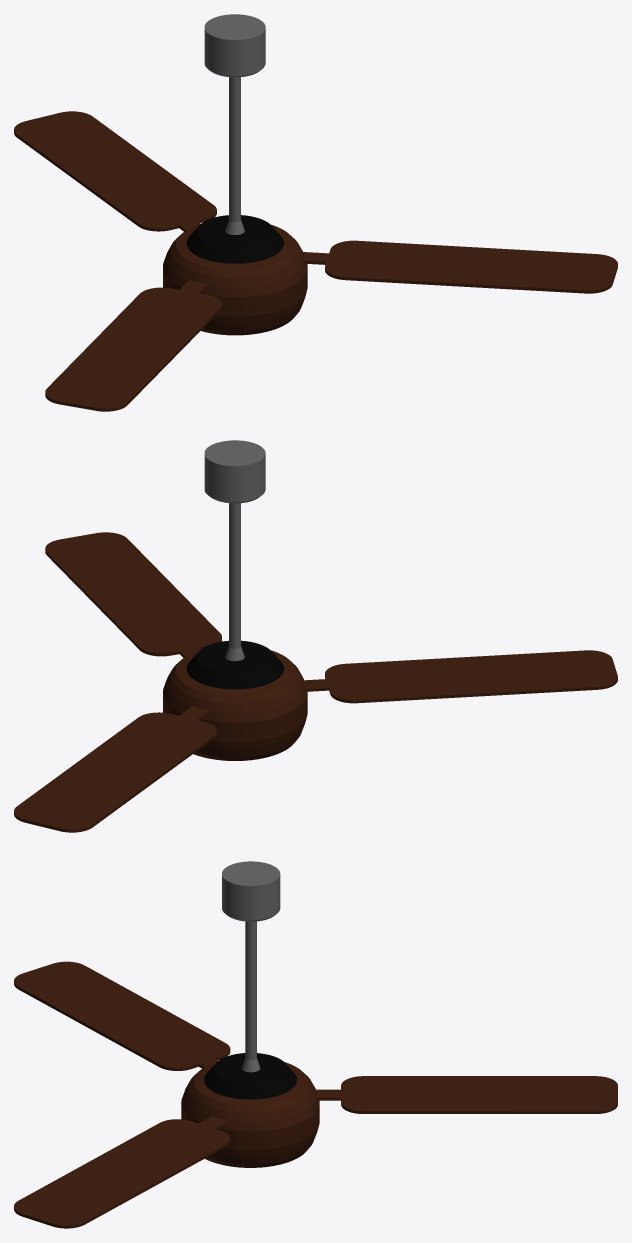
The picture shows the model from 3 angles, top to bottom: view 1: azimuth 30°, elevation 25°; view 2: azimuth 150°, elevation 25°; view 3: azimuth 270°, elevation 25°; orthographic projection. The views are drawn at different scales.
Visible parts, largest first — view 1: fan; view 2: fan; view 3: fan.
Part boxes in pixels (x1=…): fan: x1=14, y1=14, x2=617, y2=411; fan: x1=14, y1=440, x2=617, y2=832; fan: x1=14, y1=861, x2=617, y2=1228.
Size of the model in its own units: 1.19 by 0.567 by 1.15.
